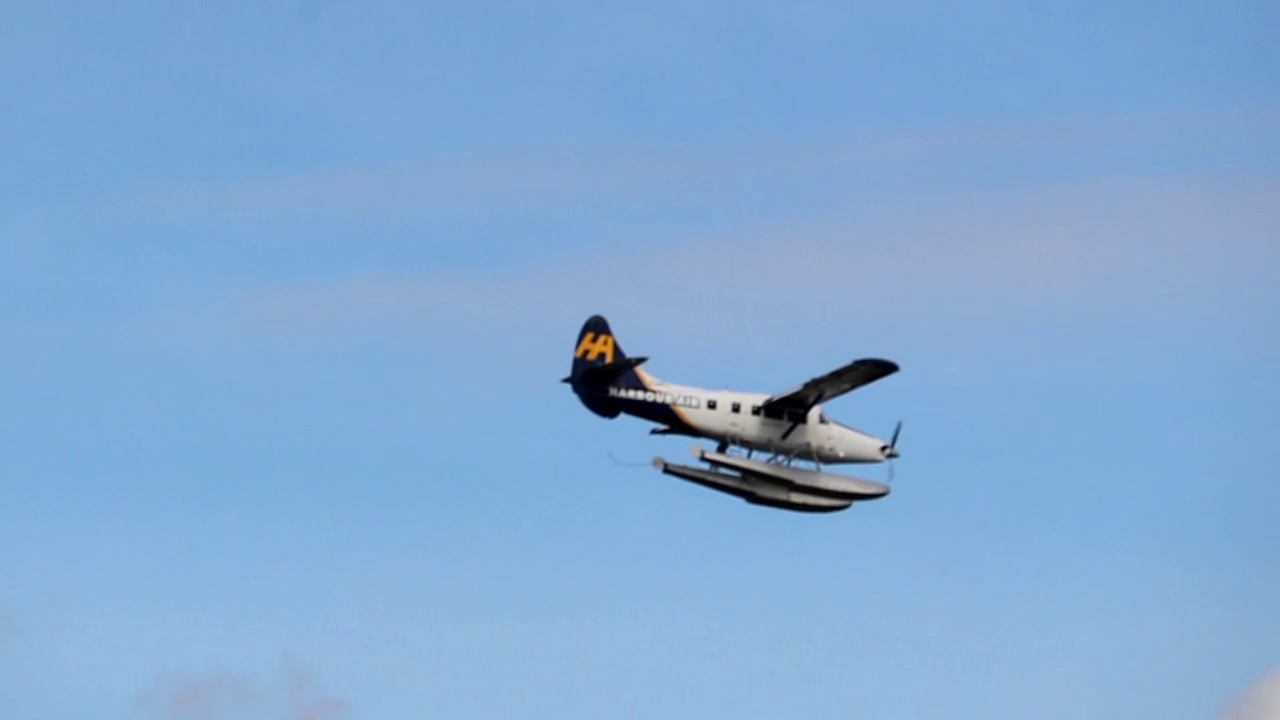plane: (562, 312, 902, 515)
